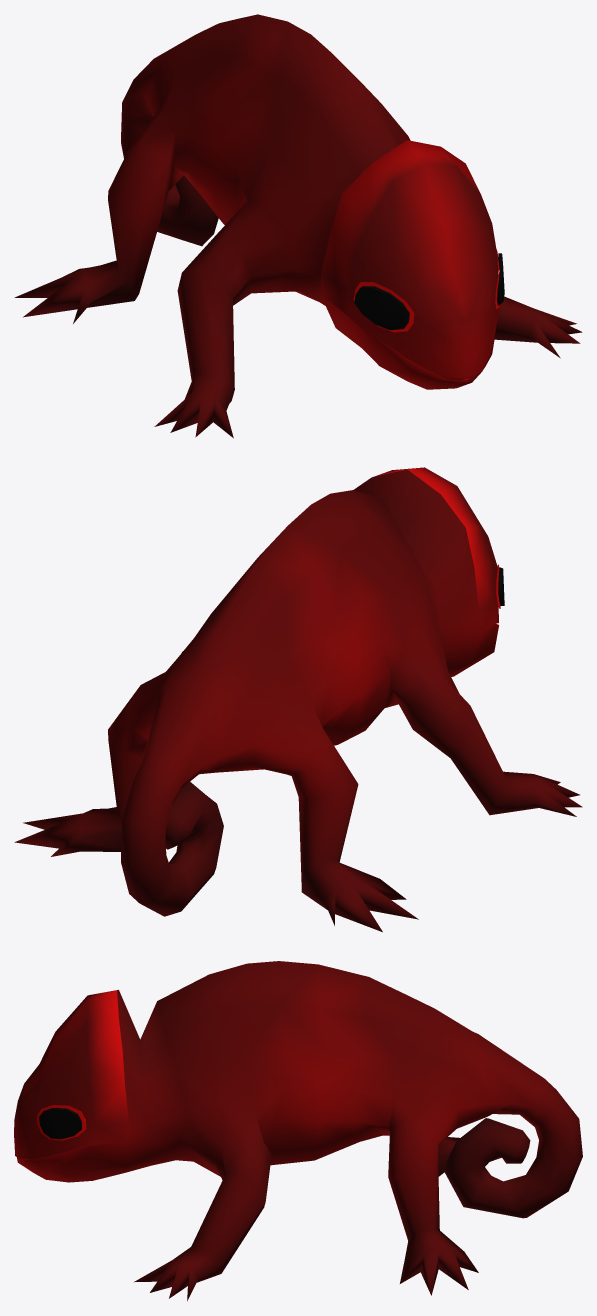
The model's file is Reptiles_Chameleon.fbx.
3 views of the same model, one above another, from view 1: azimuth 30°, elevation 25°; view 2: azimuth 150°, elevation 25°; view 3: azimuth 270°, elevation 25° (orthographic). The views are drawn at different scales.
Parts seen in each view (by area): view 1: base; view 2: base; view 3: base.
Part boxes in pixels (bbox=[...]): base: bbox=[14, 14, 582, 438]; base: bbox=[14, 467, 582, 932]; base: bbox=[14, 961, 582, 1301].
Size of the model in its own units: 102 by 70.27 by 141.
